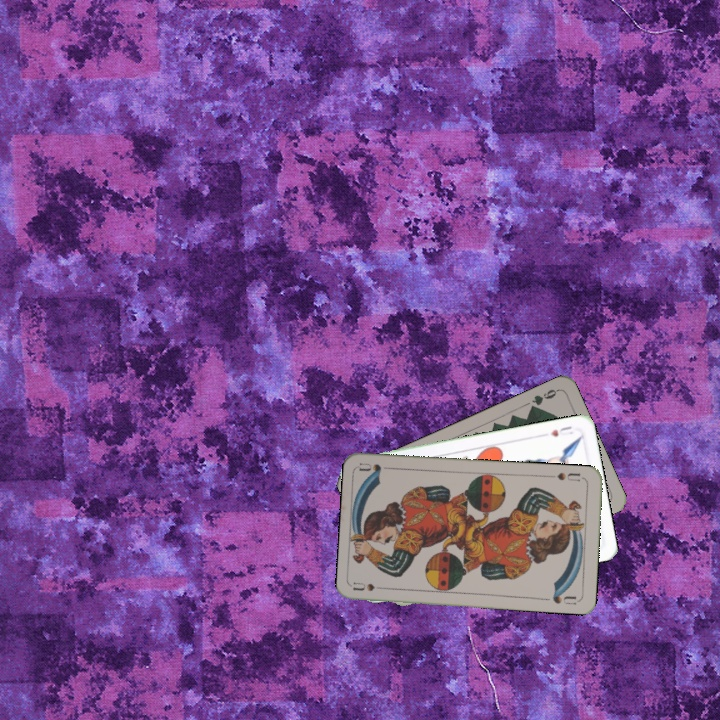G9: (526, 385, 561, 414)
HU: (546, 422, 576, 439)
SU: (351, 578, 391, 594), (546, 469, 587, 484)
